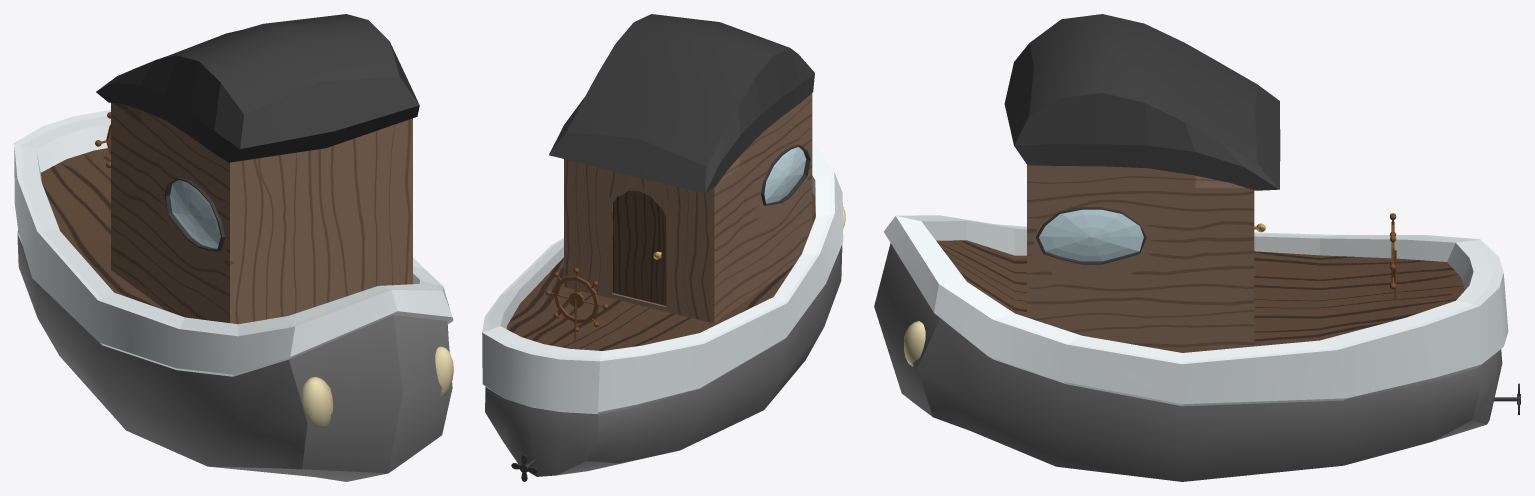
File: boat.fbx
The picture shows the model from 3 angles, left to right: view 1: azimuth 30°, elevation 25°; view 2: azimuth 150°, elevation 25°; view 3: azimuth 270°, elevation 25°; orthographic projection. The views are drawn at different scales.
Visible parts, largest first — view 1: boat; view 2: boat; view 3: boat.
Boxes of the visible parts, x1,y1,x2,y2 form: boat: (14,14,453,481); boat: (482,14,845,481); boat: (874,14,1520,481).
Bounding box in the file's own units: 304 × 434 × 620.
Materials: 1 (1 with a texture image).
